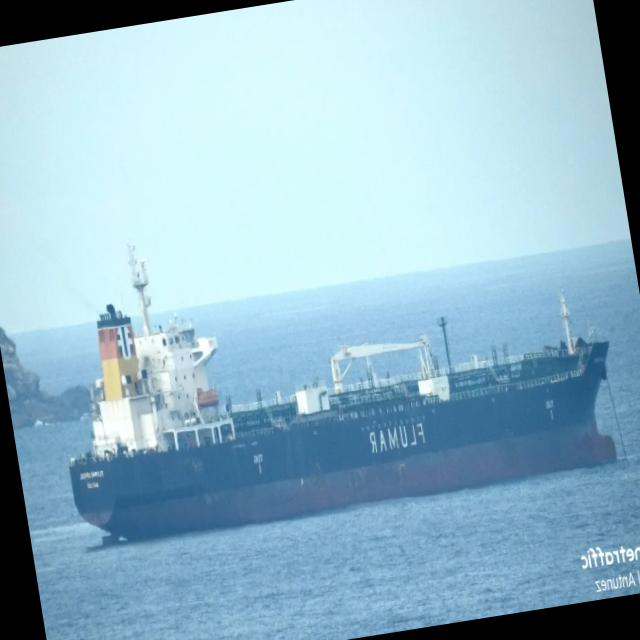Tanker: (70, 250, 616, 545)
